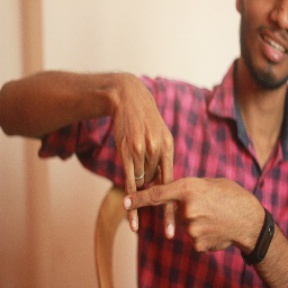H: (102, 135, 209, 242)
